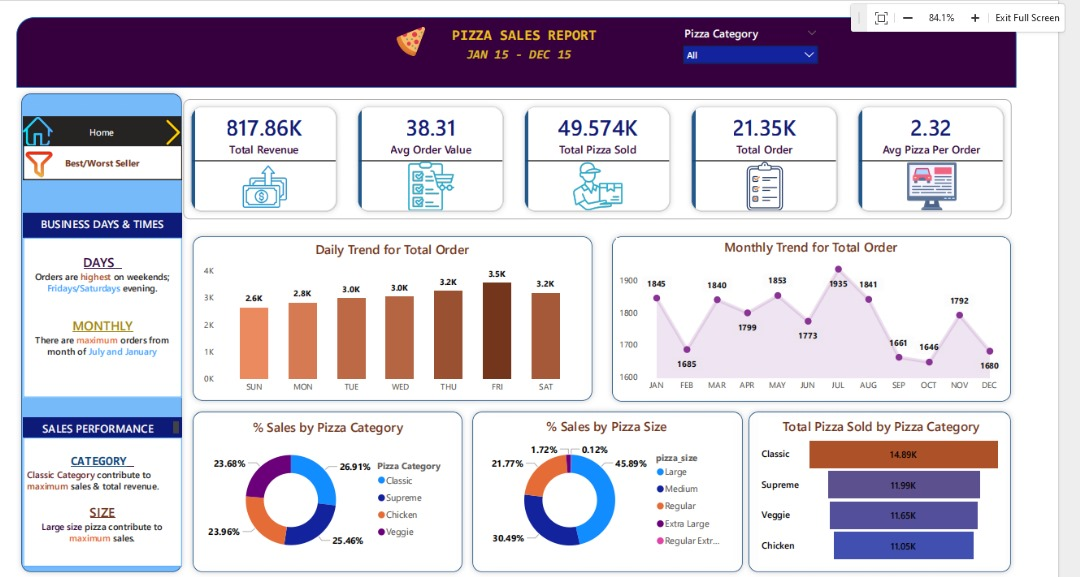

Layout of this report page (visuals, bound fields, positions):
{"tool":"powerbi","page":{"name":"Home","canvas":[1500,820],"ordinal":0},"visuals":[{"type":"cardVisual","fields":{"Data":["pizza_sales.Total Revenue","pizza_sales.Avg Order Value","pizza_sales.Total Pizza Sold","pizza_sales.Total Order","pizza_sales.Avg Pizza Per Order"]},"box":[226.7,103.3,1246.7,210],"z":0},{"type":"pageNavigator","box":[10,145.7,231.7,43.3],"z":0,"group":"g1"},{"type":"pageNavigator","box":[10,188,232,50],"z":0,"group":"g2"},{"type":"shape","box":[0,0,1463.3,103.3],"z":1000},{"type":"image","box":[187.8,149.8,81.9,37.1],"z":1000,"group":"g1"},{"type":"image","box":[4,188,58,54],"z":1000,"group":"g2"},{"type":"textbox","box":[596.5,7.9,305.1,53.1],"z":2000},{"type":"image","box":[0,145.7,61.9,43.3],"z":2000,"group":"g1"},{"type":"textbox","box":[641.7,39.4,187,43.3],"z":3000},{"type":"image","box":[545.3,13.8,65,43.3],"z":4000},{"type":"shape","box":[250,313.3,600,256.7],"z":5000},{"type":"shape","box":[864.2,313,598.4,257.9],"z":6000},{"type":"shape","box":[250,570,410,250],"z":7000},{"type":"shape","box":[660,570,410,250],"z":8000},{"type":"shape","box":[1064,570,398,250],"z":9000},{"type":"columnChart","title":"Daily Trend for Total Order","fields":{"Category":["pizza_sales.Order Day"],"Y":["pizza_sales.Total Order"]},"box":[270,326.7,560,233.3],"z":10000},{"type":"areaChart","title":"Monthly Trend for Total  Order","fields":{"Category":["pizza_sales.Order Month"],"Y":["pizza_sales.Total Order"]},"box":[878,322.8,568.9,234.3],"z":11000},{"type":"donutChart","title":"% Sales by Pizza Category","fields":{"Y":["pizza_sales.Total Revenue"],"Category":["pizza_sales.pizza_category"]},"box":[269.7,586.6,372,216.5],"z":12000},{"type":"donutChart","title":"% Sales by Pizza Size","fields":{"Y":["pizza_sales.Total Revenue"],"Category":["pizza_sales.pizza_size"]},"box":[678,586,372,218],"z":13000},{"type":"funnel","title":"Total Pizza Sold by Pizza Category","fields":{"Category":["pizza_sales.pizza_category"],"Y":["pizza_sales.Total Pizza Sold"]},"box":[1086,586,360,218],"z":14000},{"type":"shape","box":[0,104,250,716],"z":15000},{"type":"textbox","box":[9.8,287.4,232.3,35.4],"z":16000},{"type":"textbox","box":[9.8,616.1,232.3,189],"z":17000},{"type":"textbox","box":[9.8,586.6,232.3,29.5],"z":18000},{"type":"textbox","box":[9.8,322.8,232.3,234.3],"z":19000},{"type":"slicer","fields":{"Values":["pizza_sales.pizza_category"]},"box":[964.6,7.9,218.5,74.8],"z":20000},{"type":"group","id":"g1","title":"Group 1","box":[0,145.7,269.7,43.3],"z":21000},{"type":"group","id":"g2","title":"Group 2","box":[4,188,238,54],"z":22000}]}

Visuals, with their boxes on the page's 1500x820 design canvas (x1, y1, x2, y2). These are canvas units, not pixel positions in the 1080x577 screenshot, which may show the page scaled, cropped or inside an application window:
cardVisual - pizza_sales.Total Revenue x pizza_sales.Avg Order Value: box=[227, 103, 1473, 313]
pageNavigator: box=[10, 146, 242, 189]
pageNavigator: box=[10, 188, 242, 238]
shape: box=[0, 0, 1463, 103]
image: box=[188, 150, 270, 187]
image: box=[4, 188, 62, 242]
textbox: box=[596, 8, 902, 61]
image: box=[0, 146, 62, 189]
textbox: box=[642, 39, 829, 83]
image: box=[545, 14, 610, 57]
shape: box=[250, 313, 850, 570]
shape: box=[864, 313, 1463, 571]
shape: box=[250, 570, 660, 820]
shape: box=[660, 570, 1070, 820]
shape: box=[1064, 570, 1462, 820]
"Daily Trend for Total Order" columnChart: box=[270, 327, 830, 560]
"Monthly Trend for Total  Order" areaChart: box=[878, 323, 1447, 557]
"% Sales by Pizza Category" donutChart: box=[270, 587, 642, 803]
"% Sales by Pizza Size" donutChart: box=[678, 586, 1050, 804]
"Total Pizza Sold by Pizza Category" funnel: box=[1086, 586, 1446, 804]
shape: box=[0, 104, 250, 820]
textbox: box=[10, 287, 242, 323]
textbox: box=[10, 616, 242, 805]
textbox: box=[10, 587, 242, 616]
textbox: box=[10, 323, 242, 557]
slicer - pizza_sales.pizza_category: box=[965, 8, 1183, 83]
"Group 1" group: box=[0, 146, 270, 189]
"Group 2" group: box=[4, 188, 242, 242]
